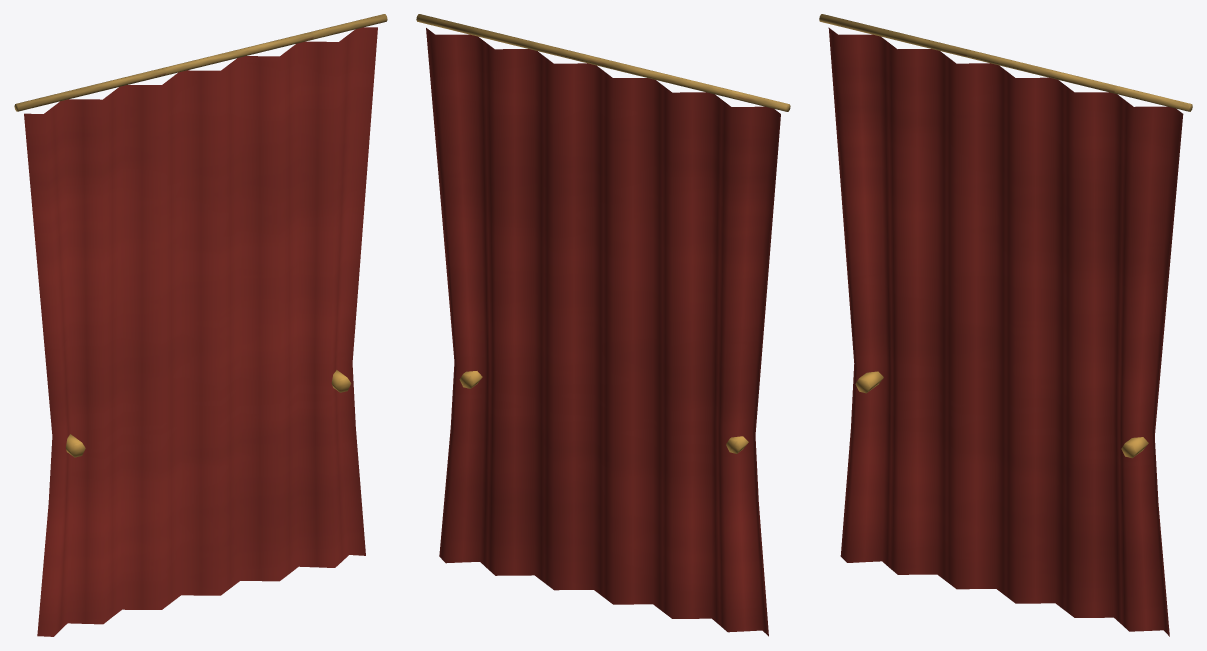
The model's file is Curtain_Drape_1.gltf.
3 renders of one model, left to right at view 1: azimuth 30°, elevation 25°; view 2: azimuth 150°, elevation 25°; view 3: azimuth 330°, elevation 25°, orthographic.
Visible parts, largest first — view 1: Curtain_Drape_1; view 2: Curtain_Drape_1; view 3: Curtain_Drape_1.
Part boxes in pixels (<box>): Curtain_Drape_1: <box>14,14,387,636</box>; Curtain_Drape_1: <box>416,14,790,636</box>; Curtain_Drape_1: <box>819,14,1192,636</box>.
Size of the model in its own units: 2.5 by 3.48 by 0.18.
3 materials, 3 textured.
